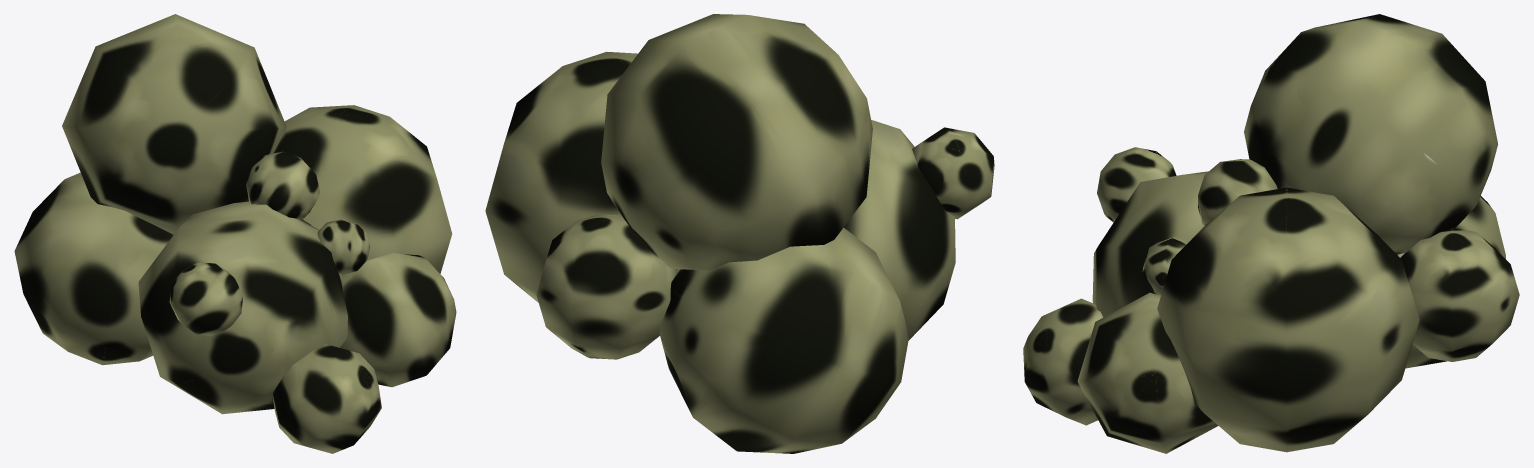
Rendered from fungal_cluster_2.fbx.
3 views of the same model, side by side, from view 1: azimuth 30°, elevation 25°; view 2: azimuth 150°, elevation 25°; view 3: azimuth 270°, elevation 25° (orthographic). The views are drawn at different scales.
Parts seen in each view (by area): view 1: fungal_cluster_2; view 2: fungal_cluster_2; view 3: fungal_cluster_2.
Part boxes in pixels (x1,y1,x2,y2): fungal_cluster_2: [14, 14, 456, 453]; fungal_cluster_2: [485, 14, 994, 453]; fungal_cluster_2: [1023, 14, 1519, 453].
Bounding box in the file's own units: 369 × 324 × 384.
1 material, 1 textured.
